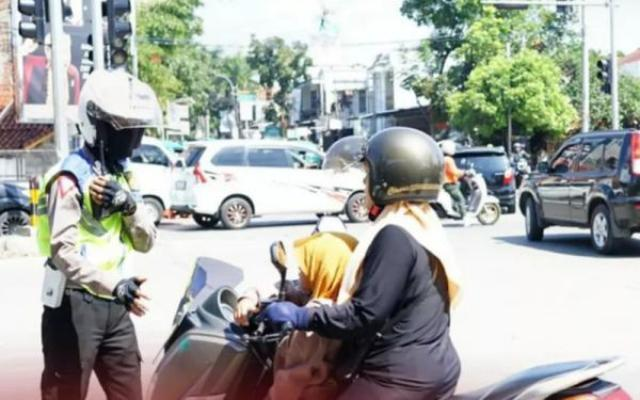helm: (77, 68, 166, 169), (353, 128, 447, 210)
motor: (157, 258, 640, 400)
non-helm: (291, 231, 365, 297)
